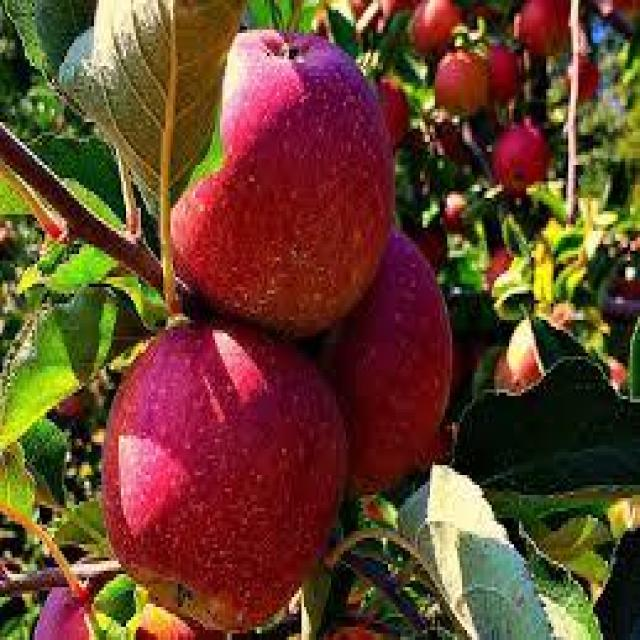fruit: (86, 305, 353, 640), (158, 26, 394, 330), (316, 227, 453, 493), (37, 551, 240, 640), (488, 238, 553, 322), (492, 121, 550, 196), (433, 49, 490, 118), (494, 318, 543, 394), (333, 0, 411, 45), (364, 78, 412, 148), (556, 49, 608, 109), (516, 0, 567, 56), (410, 1, 462, 54), (437, 188, 478, 248), (485, 42, 522, 104), (52, 382, 98, 429)
